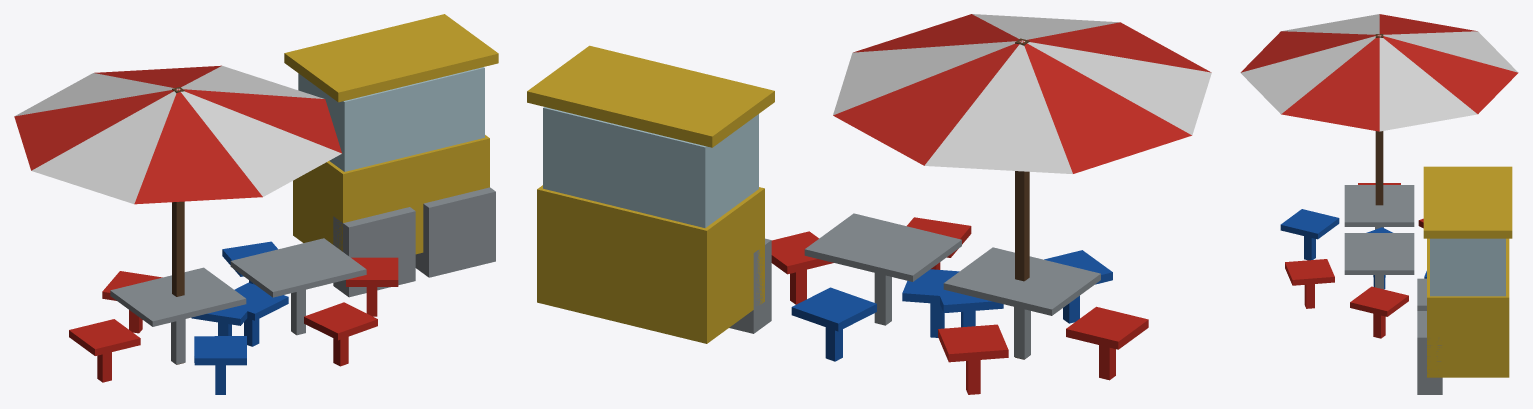
The model's file is saigon_street_props.glb.
The picture shows the model from 3 angles, left to right: view 1: azimuth 30°, elevation 25°; view 2: azimuth 150°, elevation 25°; view 3: azimuth 270°, elevation 25°; orthographic projection. The views are drawn at different scales.
Parts seen in each view (by area): view 1: SaigonSidewalkCafeProps_mat0; view 2: SaigonSidewalkCafeProps_mat0; view 3: SaigonSidewalkCafeProps_mat0.
Part boxes in pixels (box(x1,y1,x2,y2)): SaigonSidewalkCafeProps_mat0: box(14, 14, 498, 394); SaigonSidewalkCafeProps_mat0: box(527, 14, 1211, 394); SaigonSidewalkCafeProps_mat0: box(1240, 14, 1518, 394).
Bounding box in the file's own units: 3.7 × 1.96 × 2.2.
